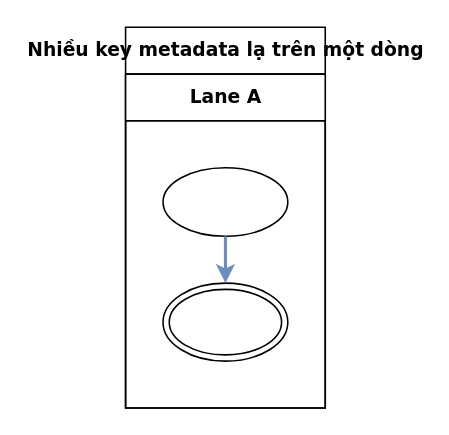
The diagram is 449 pixels wide and 435 high, and some of its shapes have lost their labels. The shapes that lost their labels are listed below. From the top down, each one's centre as x and y in pixels, then its label:
At point (224, 201): "Vào".
At point (224, 321): "Xong".
